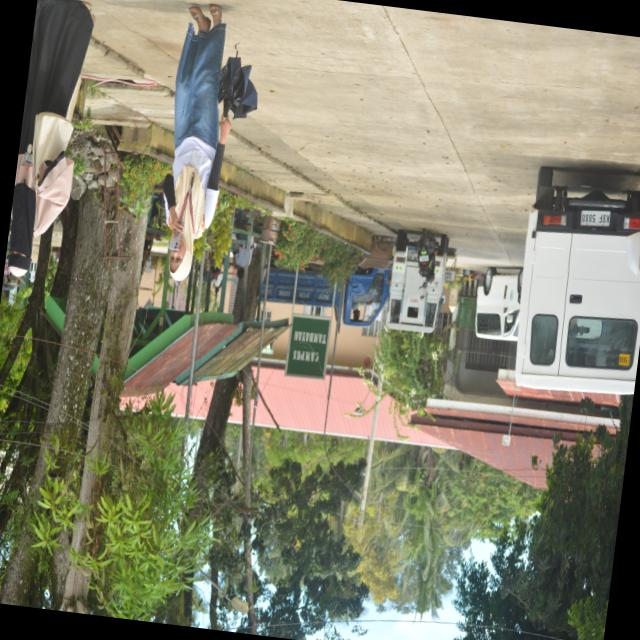person: (8, 0, 94, 275), (163, 4, 230, 279), (234, 233, 254, 277)
